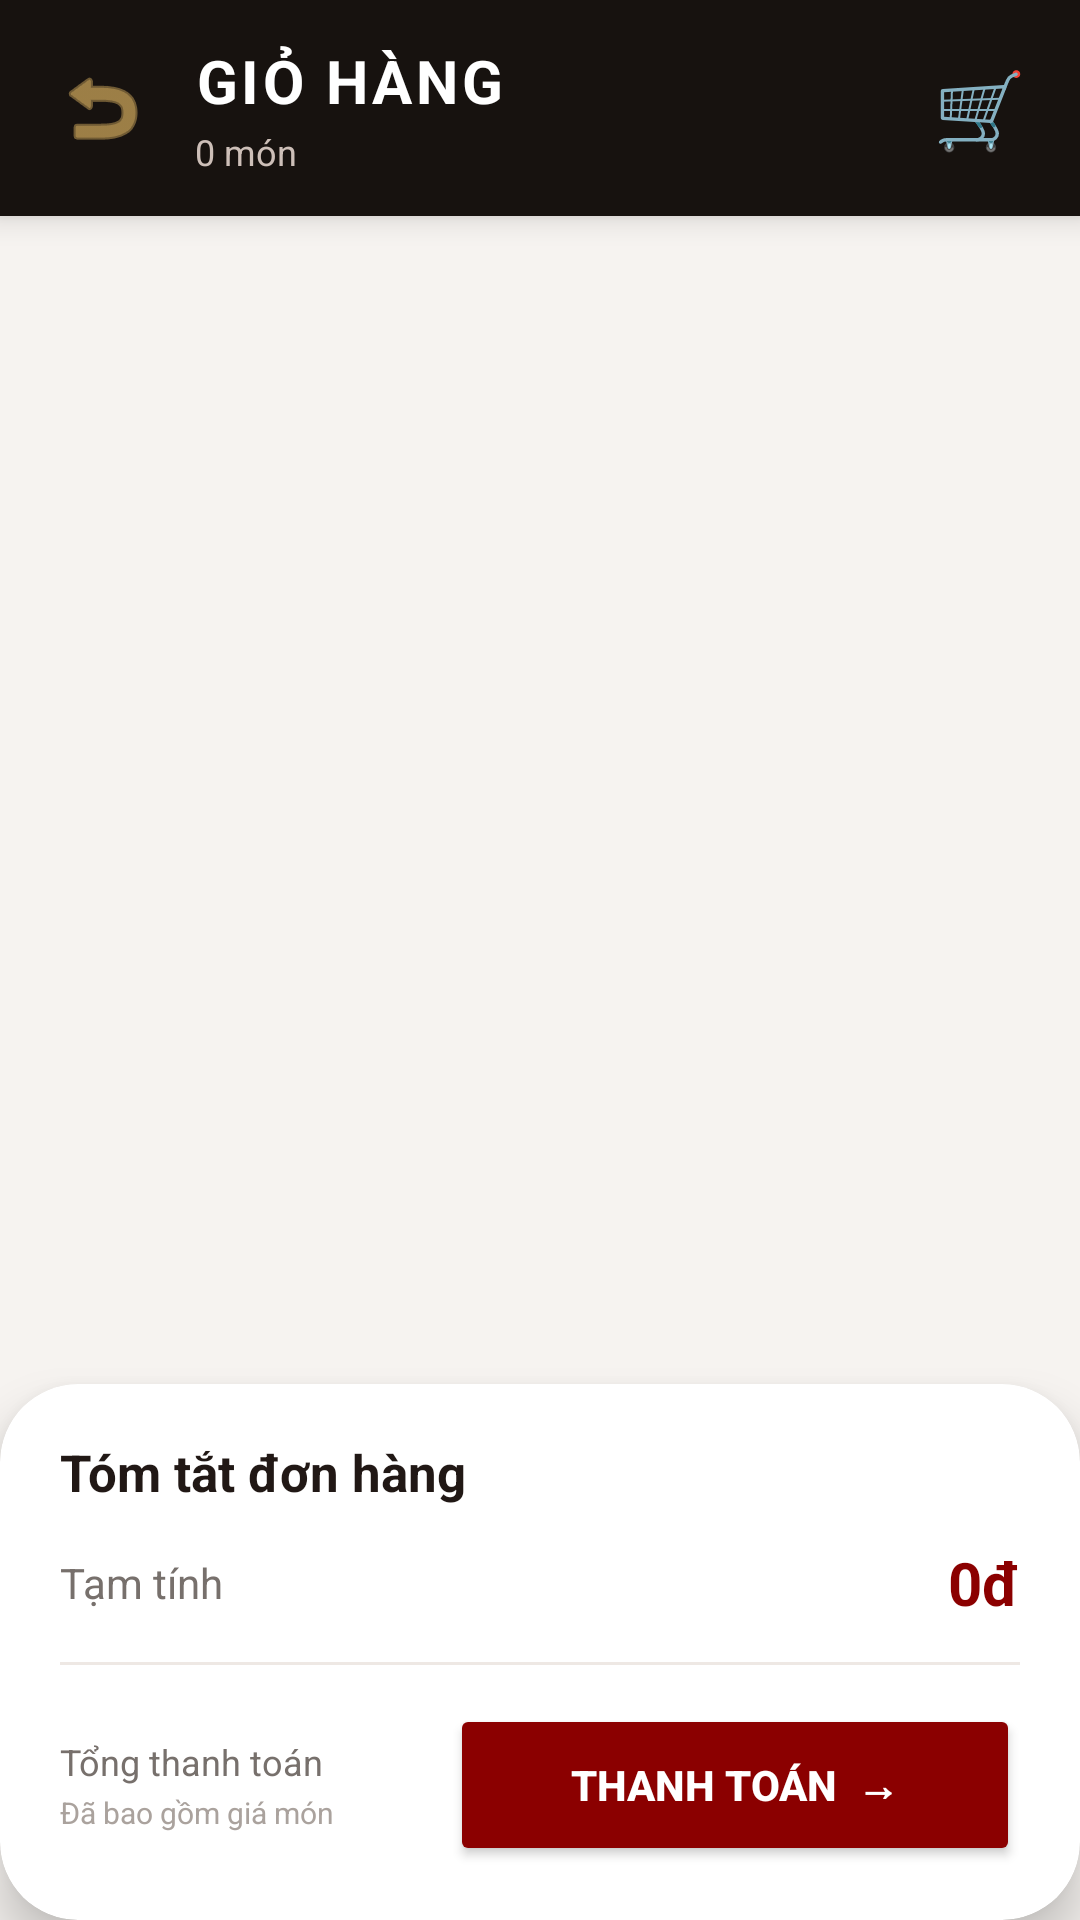

Screen size 1080 × 1920. Icon name, then its center in pixels as (x=x, y=y):
Quay lại: (x=103, y=108)
